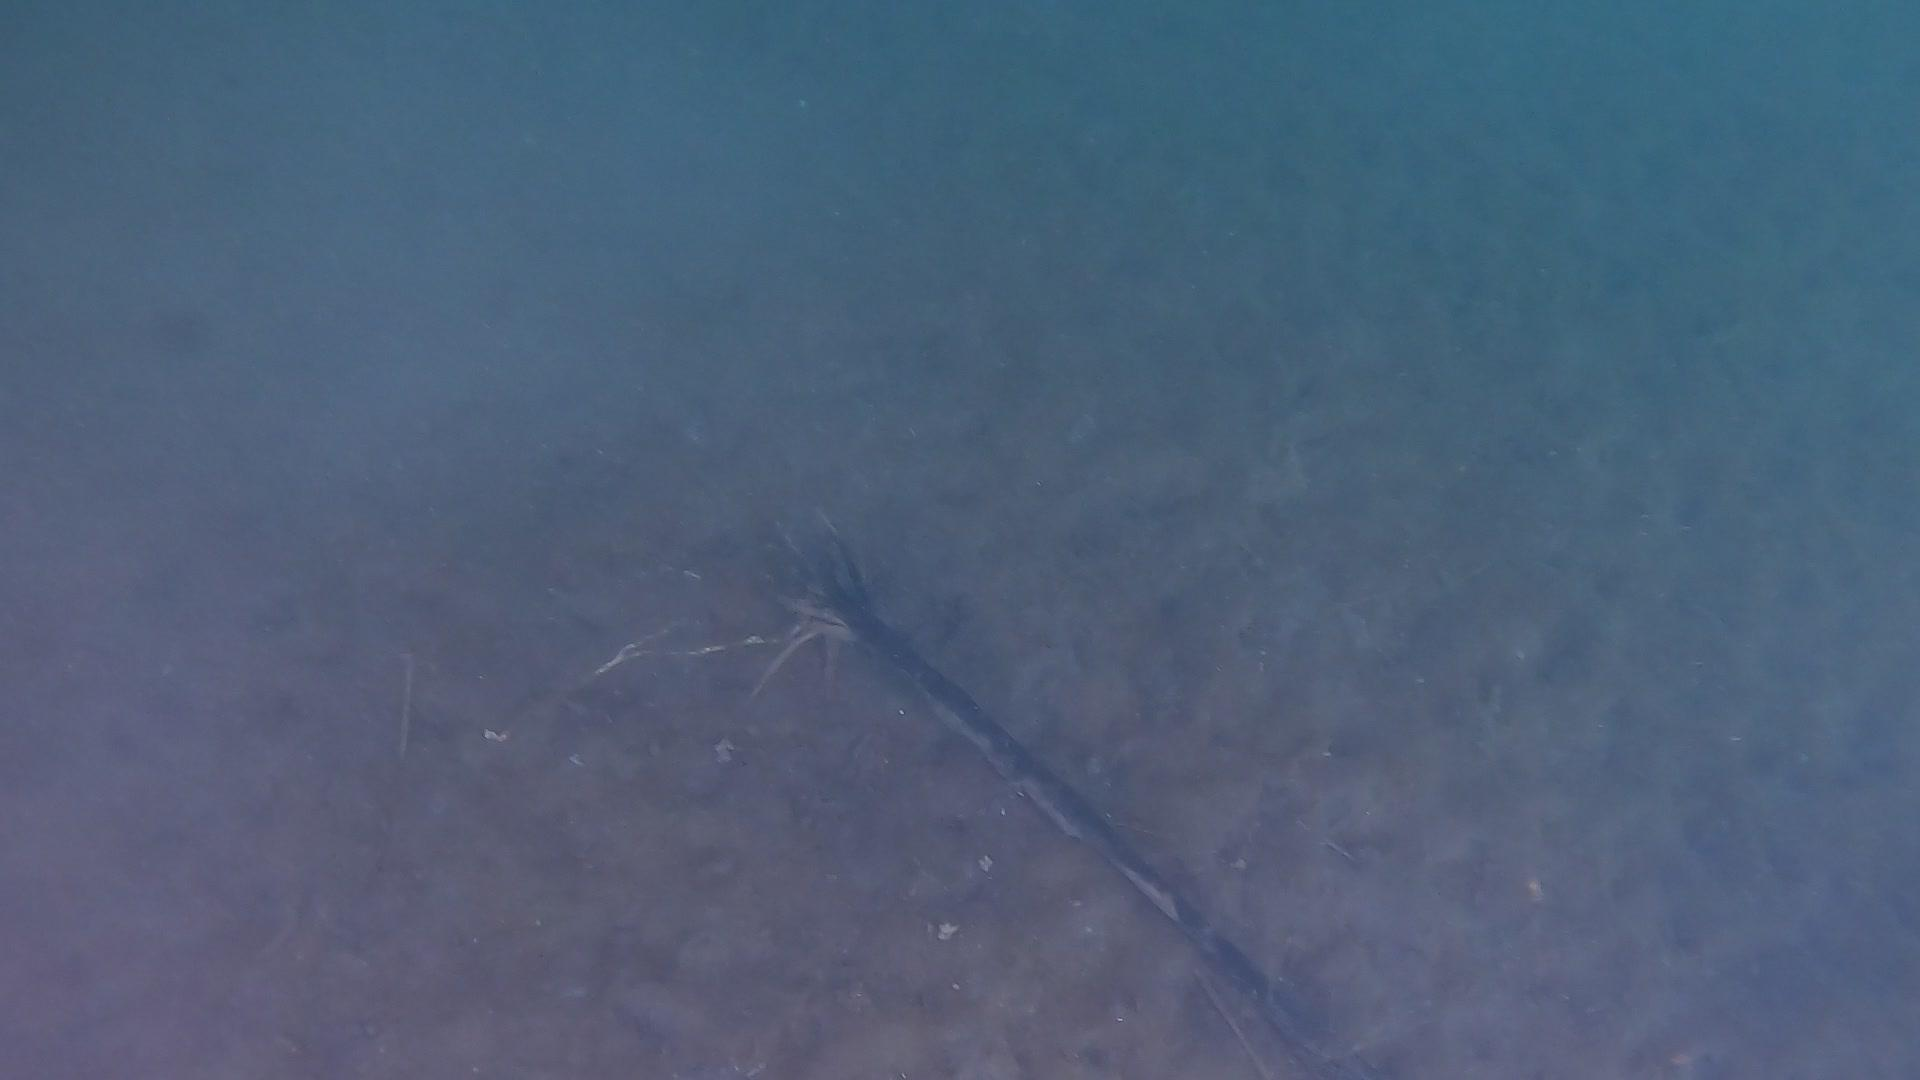wood: (748, 509, 1367, 1080)
